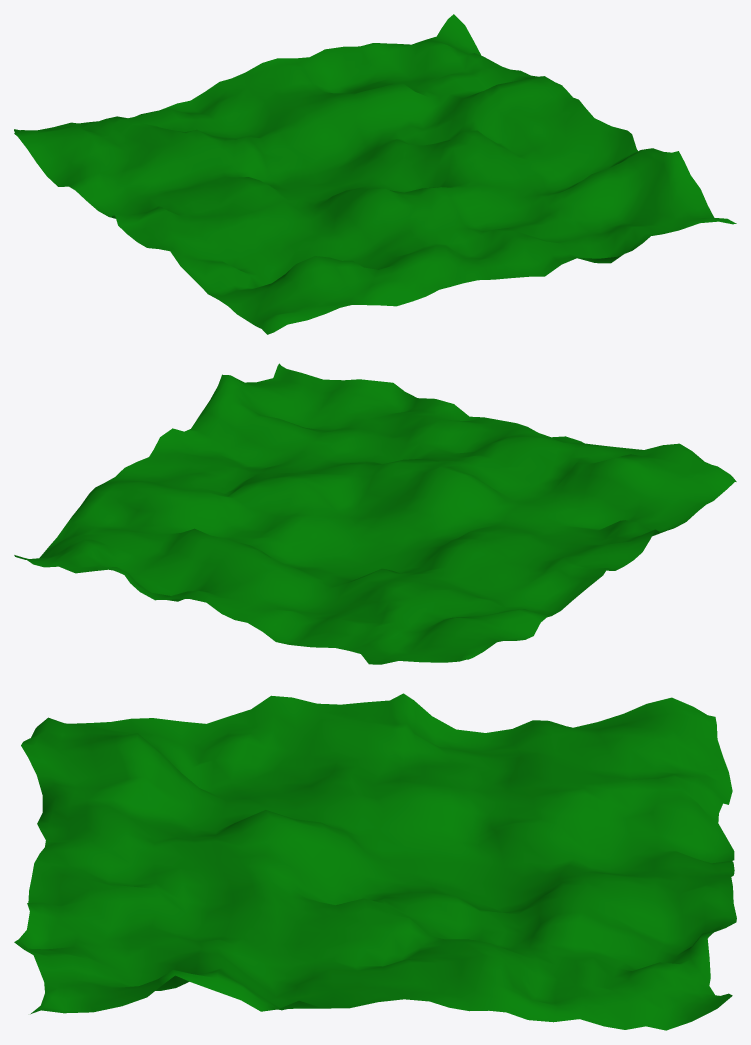
The model's file is ground1.glb.
3 renders of one model, top to bottom at view 1: azimuth 30°, elevation 25°; view 2: azimuth 150°, elevation 25°; view 3: azimuth 270°, elevation 25°, orthographic. The views are drawn at different scales.
Visible parts, largest first — view 1: Plane; view 2: Plane; view 3: Plane.
Part boxes in pixels (bbox=[...]): Plane: bbox=[14, 14, 736, 334]; Plane: bbox=[14, 363, 736, 664]; Plane: bbox=[14, 693, 736, 1030].
Size of the model in its own units: 23.36 by 2.35 by 23.52.
